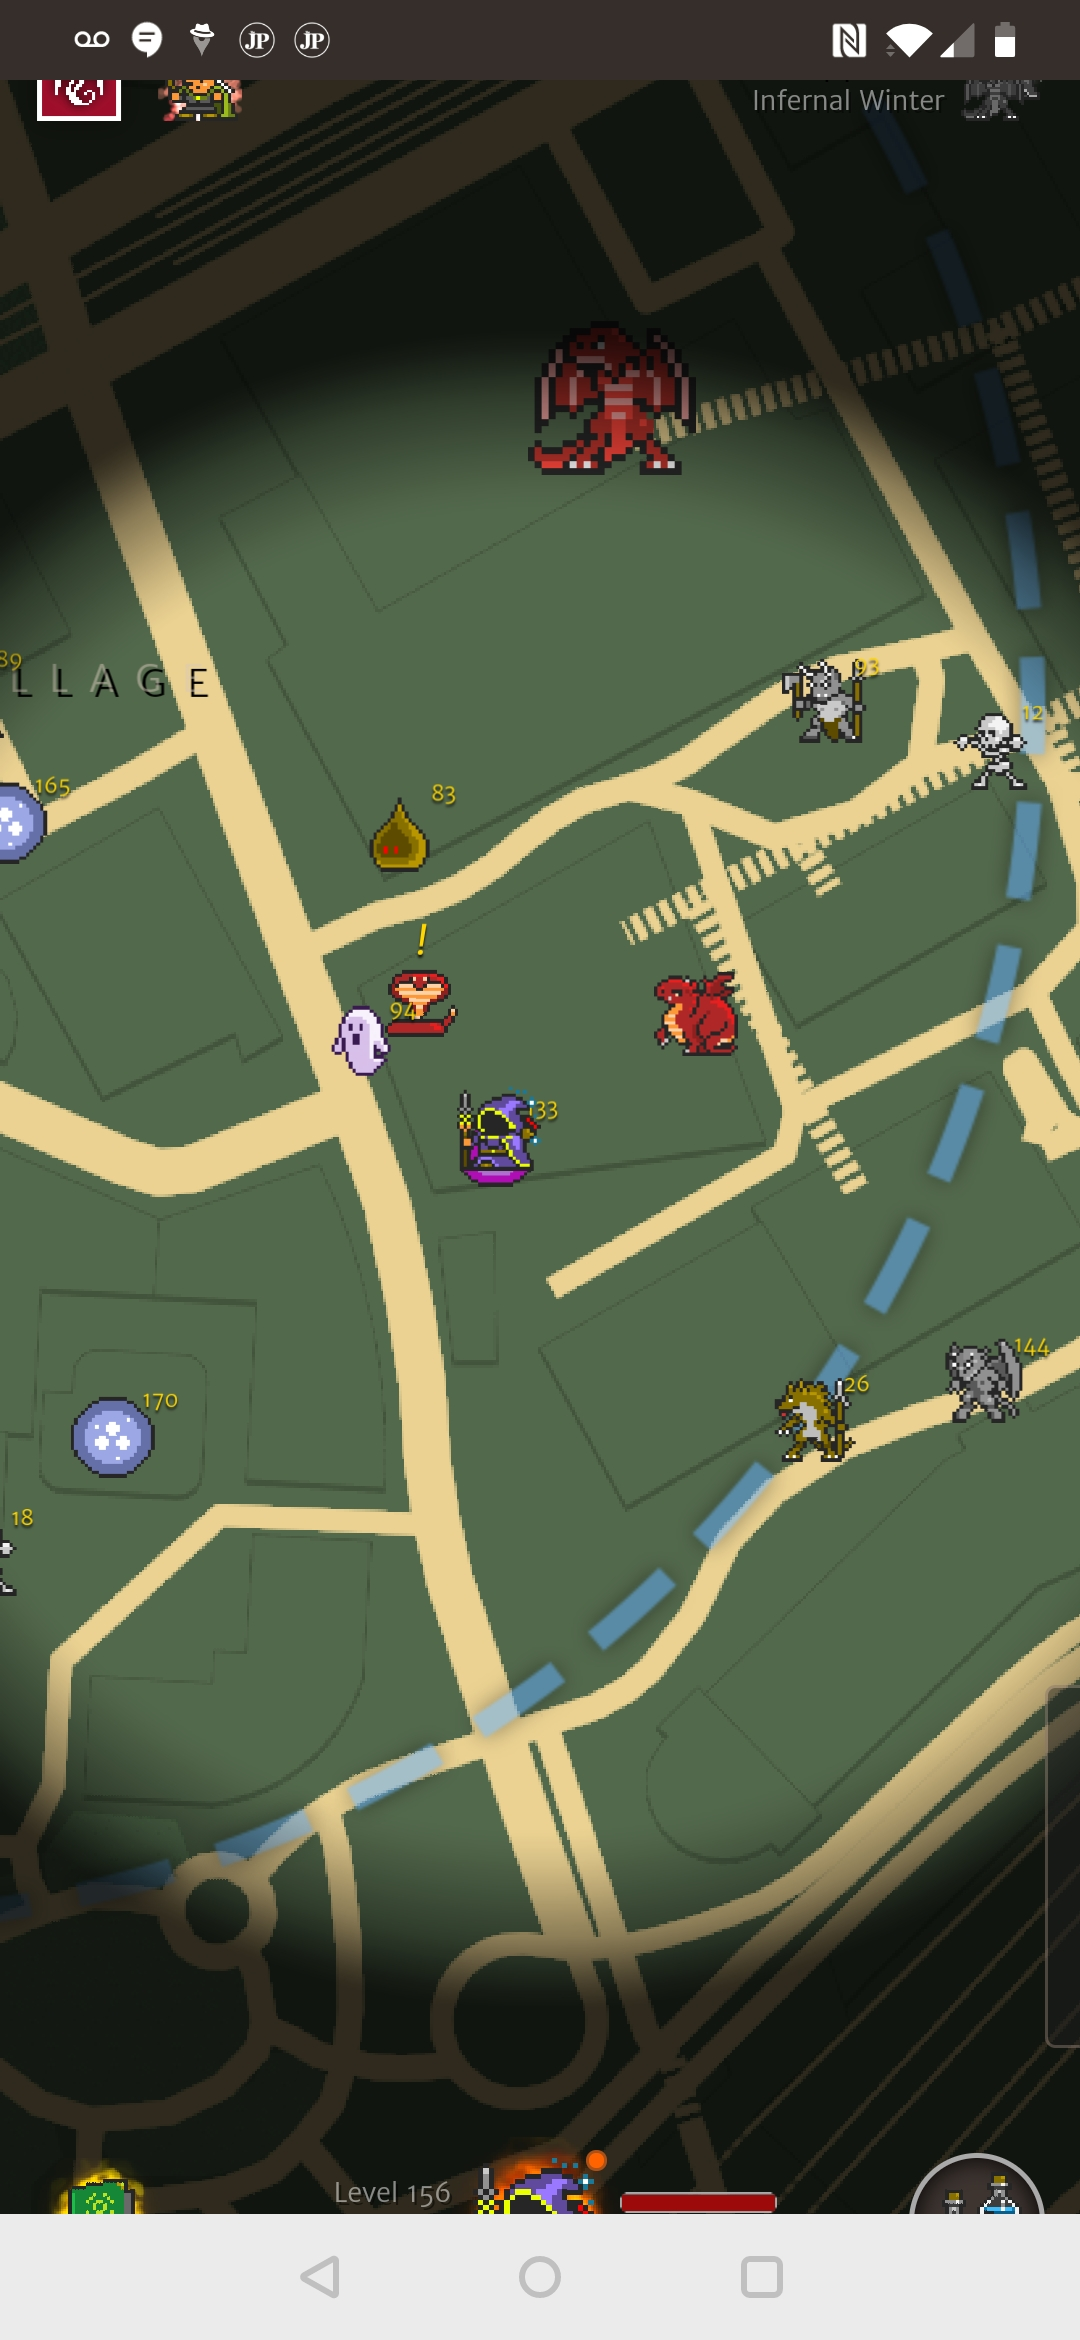monster: (770, 647, 895, 761), (763, 1368, 881, 1468), (946, 702, 1050, 813), (60, 1385, 167, 1489), (357, 782, 453, 885), (939, 1340, 1032, 1444), (329, 1009, 401, 1096)
player: (460, 1096, 553, 1182)
